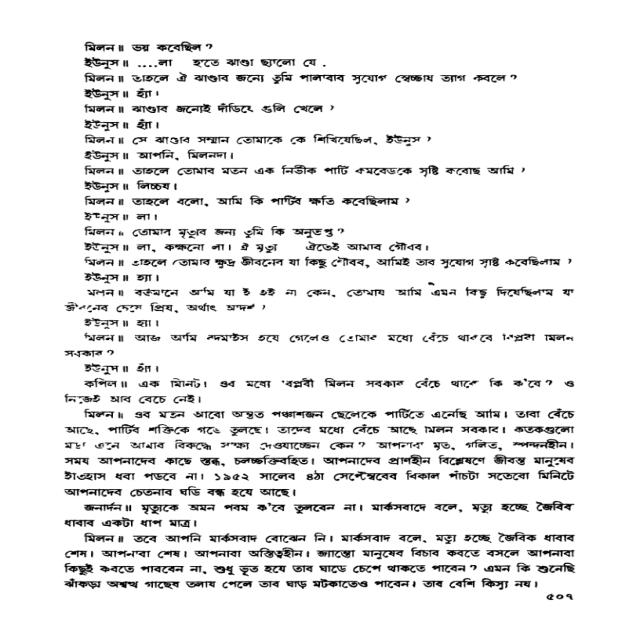page number: (543, 591, 576, 602)
paragraph: (59, 407, 579, 500), (61, 531, 579, 593), (60, 499, 578, 529), (61, 376, 578, 406), (62, 285, 577, 314), (61, 331, 578, 359), (131, 255, 575, 269), (132, 163, 527, 178), (131, 71, 519, 85), (133, 133, 434, 148), (131, 193, 411, 208), (132, 240, 431, 254), (130, 101, 336, 116), (132, 225, 346, 239), (133, 57, 328, 70), (134, 148, 236, 162), (130, 40, 217, 54), (133, 179, 179, 192), (133, 361, 161, 376), (133, 86, 162, 100), (134, 117, 162, 131), (133, 272, 162, 284), (131, 211, 159, 223), (134, 317, 161, 329)
text: (76, 407, 130, 421), (77, 377, 131, 391), (77, 362, 131, 376), (77, 271, 131, 285), (77, 257, 131, 271), (76, 164, 130, 178), (77, 133, 131, 147), (77, 57, 131, 71), (74, 531, 127, 545), (81, 501, 134, 515), (74, 331, 127, 345), (77, 316, 130, 330), (76, 288, 129, 302), (78, 240, 131, 254), (76, 225, 129, 239), (77, 210, 130, 224), (76, 195, 129, 209), (78, 180, 131, 194), (78, 148, 131, 162), (79, 118, 132, 132), (75, 102, 128, 116), (79, 87, 132, 101), (76, 72, 129, 86), (75, 40, 128, 54)
